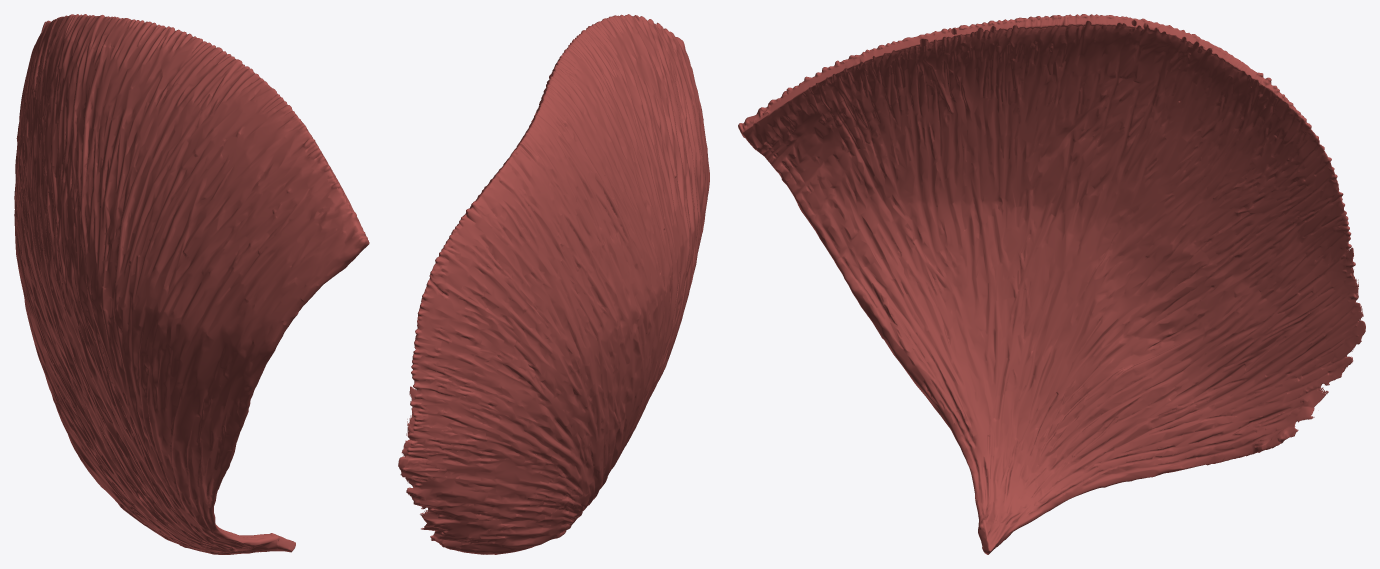
Rendered from FMA46763.glb.
3 renders of one model, left to right at view 1: azimuth 30°, elevation 25°; view 2: azimuth 150°, elevation 25°; view 3: azimuth 270°, elevation 25°, orthographic. The views are drawn at different scales.
Visible parts, largest first — view 1: FMA46763; view 2: FMA46763; view 3: FMA46763.
Boxes of the visible parts, bbox=[...] form: FMA46763: bbox=[14, 14, 369, 554]; FMA46763: bbox=[398, 14, 709, 554]; FMA46763: bbox=[738, 14, 1365, 554].
Bounding box in the file's own units: 0.037 × 0.0996 × 0.1131.
